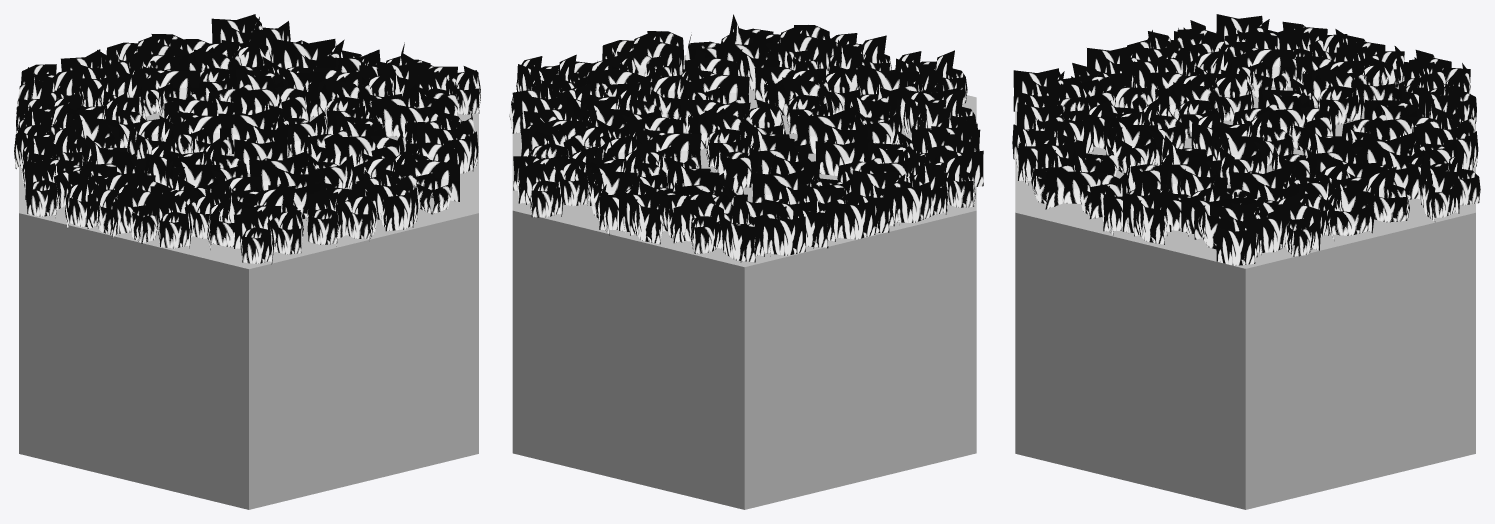
The model's file is FoliageWithTile.fbx.
3 renders of one model, left to right at view 1: azimuth 30°, elevation 25°; view 2: azimuth 150°, elevation 25°; view 3: azimuth 270°, elevation 25°, orthographic.
Parts seen in each view (by area): view 1: Hex0_1.002; view 2: Hex0_1.002; view 3: Hex0_1.002.
Boxes of the visible parts, x1,y1,x2,y2 form: Hex0_1.002: (14,14,480,509); Hex0_1.002: (509,14,983,509); Hex0_1.002: (1012,14,1480,509).
Bounding box in the file's own units: 1000 × 588 × 880.
